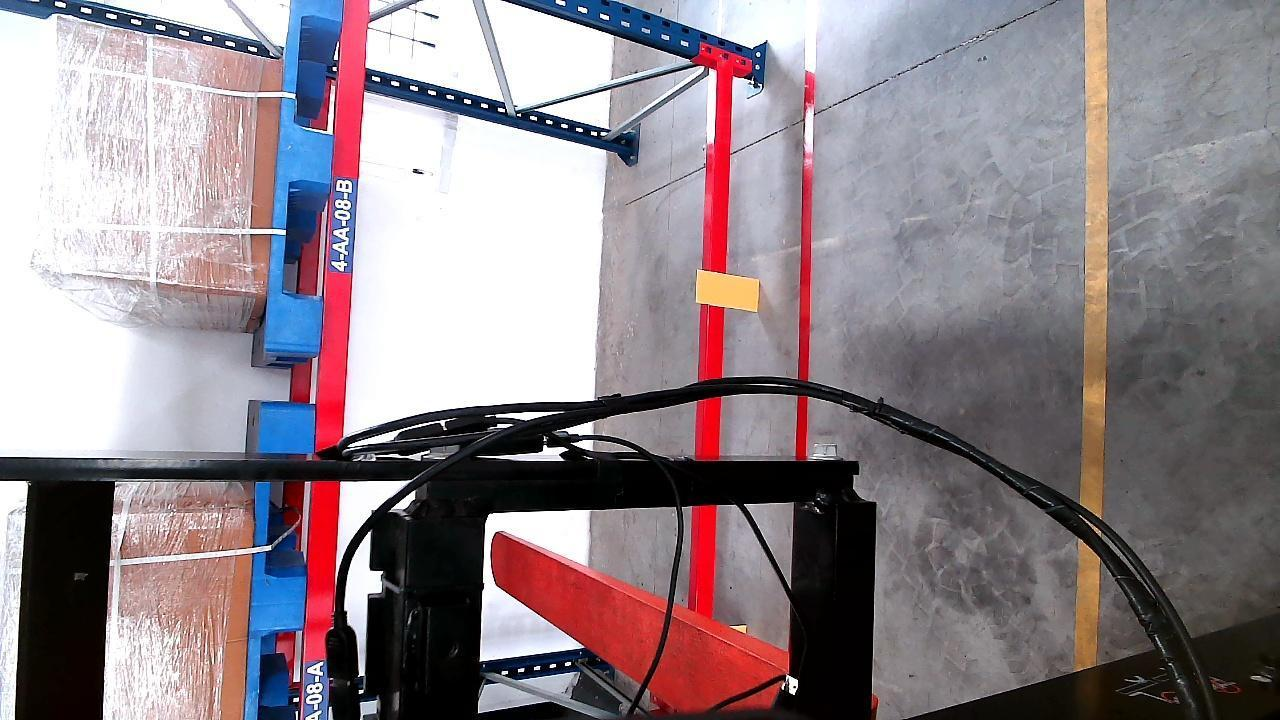h_rack: (302, 0, 365, 720), (691, 63, 740, 621)
orange_strip: (698, 272, 759, 308)
red_line: (796, 0, 818, 465)
small_pallet: (245, 405, 314, 720)
yellow_line: (1078, 1, 1112, 678)
